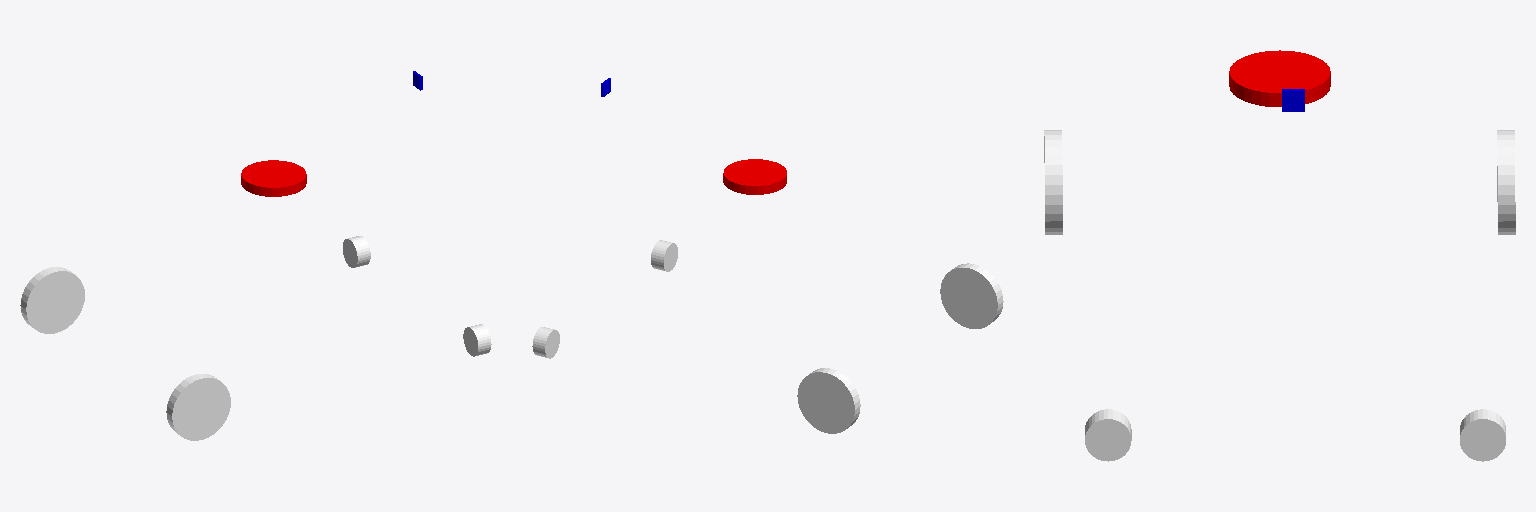
robot.urdf — ikea_table:
<?xml version="1.0" ?>
<robot name="ikea_table">


  <link name="base_link">
   <visual>
      <origin rpy="0.0 0.0 -1.57" xyz="0 0 0"/>
      <geometry>
        <mesh filename="file://[local-path]/ros2/ros2_workspace/install/self_driving_bot/share/self_driving_bot/meshes/ikea_table.dae" scale="1 1 1"/>
      </geometry>
    </visual>
    
    <collision>
      <origin rpy="0.0 0.0 -1.57" xyz="0 0 0"/>
      <geometry>
        <mesh filename="file://[local-path]/ros2/ros2_workspace/install/self_driving_bot/share/self_driving_bot/meshes/ikea_table.dae" scale="1 1 1"/>
     </geometry>
    </collision>

    <inertial>
      <origin xyz="0.35000000 -0.00000000 0.50000000"/>
      <mass value="4.00000000"/>
      <inertia ixx="0.48390286" ixy="0.00000005" ixz="-0.00091636" iyy="0.57406531" iyz="-0.00033842" izz="0.34467206"/>
    </inertial>

  </link>


  <link name="base_footprint"/>

  <joint name="base_joint" type="fixed">
    <parent link="base_footprint"/>
    <child link="base_link" />
    <origin xyz="0 0 0.50" rpy="0 0 0"/>
  </joint>

  <link name="wheel_back_left">
    <inertial>
      <origin xyz="0.00000000 -0.00000000 -0.00000000" rpy="-1.57 0.0 0.0"/>
      <mass value="0.25000000"/>
      <inertia ixx="0.00027539" ixy="0.00000000" ixz="0.00000000" iyy="0.00052463" iyz="-0.00000535" izz="0.00027551"/>
    </inertial>

    <visual>
      
      <geometry>
          <cylinder radius="0.0675" length="0.023"/>
      </geometry>
      <material name="white">
        <color rgba="1 1 1 1"/>
      </material>
    </visual>

    <collision>
      <geometry>
          <cylinder radius="0.0675" length="0.023"/>
      </geometry>
      <contact_coefficients mu="1" kp="1e+13" kd="1.0"/>
    </collision>
  </link>

  <joint name="wheel_back_left_joint" type="continuous">
    <origin xyz="-0.0 0.29 0.0" rpy="0.0 -1.57 -1.57"/>
    <parent link="base_link"/>
    <child link="wheel_back_left"/>
    <axis xyz="0.0 0.0 1.0"/>
  </joint>

  <link name="wheel_back_right">
    <inertial>
      <origin xyz="0.00000000 -0.00000000 -0.00000000" rpy="-1.57 0.0 0.0"/>
      <mass value="0.25000000"/>
      <inertia ixx="0.00027539" ixy="0.00000000" ixz="0.00000000" iyy="0.00052463" iyz="-0.00000535" izz="0.00027551"/>
    </inertial>

    <visual>
      
      <geometry>
          <cylinder radius="0.0675" length="0.023"/>
      </geometry>
      <material name="white">
        <color rgba="1 1 1 1"/>
      </material>
    </visual>

    <collision>
      <geometry>
          <cylinder radius="0.0675" length="0.023"/>
      </geometry>
      <contact_coefficients mu="1" kp="1e+13" kd="1.0"/>
    </collision>
  </link>

  <joint name="wheel_back_right_joint" type="continuous">
    <origin xyz="0.0 -0.29 0.0" rpy="0.0 -1.57 -1.57"/>
    <parent link="base_link"/>
    <child link="wheel_back_right"/>
    <axis xyz="0.0 0.0 1.0"/>
  </joint>

  <link name="roll_front_right">
   <visual>
      <origin rpy="0.0 0.0 0.0" xyz="0 0 0"/>
      <geometry>
        <mesh filename="file://[local-path]/ros2/ros2_workspace/install/self_driving_bot/share/self_driving_bot/meshes/roll.dae" scale="1 1 1"/>
      </geometry>
    </visual>
    
    <collision>
      <geometry>
        <mesh filename="file://[local-path]/ros2/ros2_workspace/install/self_driving_bot/share/self_driving_bot/meshes/roll.dae" scale="1 1 1"/>
     </geometry>
    </collision>

    <inertial>
      <origin xyz="-0.00000000 0.00688662 -0.02194443"/>
      <mass value="0.20000000"/>
      <inertia ixx="0.00006659" ixy="-0.00000000" ixz="0.00000000" iyy="0.00007293" iyz="0.00000796" izz="0.00008837"/>
    </inertial>

  </link>

  <joint name="roll_front_right_joint" type="continuous">
    <origin xyz="0.68 -0.24 0.0" rpy="0.0 0.0 0.0"/>
    <parent link="base_link"/>
    <child link="roll_front_right"/>
    <axis xyz="0.0 0.0 1.0"/>
  </joint>


  <link name="wheel_front_right">
    <visual>
      <geometry>
        <cylinder radius="0.03" length="0.03"/>
      </geometry>
      <material name="white"/>
    </visual>

    <inertial>
      <origin xyz="0.00000000 0.00000000 0.00000000"/>
      <mass value="0.10000000"/>
      <inertia ixx="0.00000823" ixy="0.00000000" ixz="0.00000000" iyy="0.00000866" iyz="0.00000000" izz="0.00000866"/>
    </inertial>

    <collision>
      <geometry>
           <cylinder radius="0.03" length="0.03"/>
      </geometry>
      <contact_coefficients mu="1" kp="1e+13" kd="1.0"/>
    </collision>
  </link>

  <joint name="wheel_front_right_joint" type="continuous">
    <origin xyz="0.0 0.02 -0.040" rpy="0.0 1.57 0.0"/>
    <parent link="roll_front_right"/>
    <child link="wheel_front_right"/>
    <axis xyz="0.0 0.0 1.0"/>
  </joint>

<link name="roll_front_left">
   <visual>
      <origin rpy="0.0 0.0 0.0" xyz="0 0 0"/>
      <geometry>
        <mesh filename="file://[local-path]/ros2/ros2_workspace/install/self_driving_bot/share/self_driving_bot/meshes/roll.dae" scale="1 1 1"/>
      </geometry>
    </visual>
    
    <collision>
      <geometry>
        <mesh filename="file://[local-path]/ros2/ros2_workspace/install/self_driving_bot/share/self_driving_bot/meshes/roll.dae" scale="1 1 1"/>
     </geometry>
    </collision>

    <inertial>
      <origin xyz="-0.00000000 0.00688662 -0.02194443"/>
      <mass value="0.20000000"/>
      <inertia ixx="0.00006659" ixy="-0.00000000" ixz="0.00000000" iyy="0.00007293" iyz="0.00000796" izz="0.00008837"/>
    </inertial>

  </link>

  <joint name="roll_front_left_joint" type="continuous">
    <origin xyz="0.68 0.24 0.0" rpy="0.0 0.0 0.0"/>
    <parent link="base_link"/>
    <child link="roll_front_left"/>
    <axis xyz="0.0 0.0 1.0"/>
  </joint>


  <link name="wheel_front_left">
    <visual>
      <geometry>
        <cylinder radius="0.03" length="0.03"/>
      </geometry>
      <material name="white"/>
    </visual>

    <inertial>
      <origin xyz="0.00000000 0.00000000 0.00000000"/>
      <mass value="0.10000000"/>
      <inertia ixx="0.00000823" ixy="0.00000000" ixz="0.00000000" iyy="0.00000866" iyz="0.00000000" izz="0.00000866"/>
    </inertial>

    <collision>
      <geometry>
           <cylinder radius="0.03" length="0.03"/>
      </geometry>
      <contact_coefficients mu="1" kp="1e+13" kd="1.0"/>
    </collision>

  </link>

  <joint name="wheel_front_left_joint" type="continuous">
    <origin xyz="-0.0 0.02 -0.040" rpy="0.0 1.57 0.0"/>
    <parent link="roll_front_left"/>
    <child link="wheel_front_left"/>
    <axis xyz="0.0 0.0 1.0"/>
  </joint>

  <link name="camera">
    <inertial>
            <mass value="0.01" />
            <inertia ixx="0.01" ixy="0.0" ixz="0" 
            iyy="0.01" iyz="0" izz="0.01" />
    </inertial>

    <visual>
      
      <geometry>
        <box size="0.005 0.03 0.03"/>
      </geometry>
      <material name="blue">
        <color rgba="0 0 1 1"/>
      </material>
    </visual>

    <collision>
      <origin xyz="0.0 0.0 0.0" rpy="0.0 0.0 1.57"/>
      <geometry>
          <box size="0.03 0.005 0.03"/>
      </geometry>
    </collision>
  </link>

  <joint name="camera_joint" type="fixed">
    <origin xyz="0.68 0.0175 0.433" rpy="0 0.0 0.0"/>
    <parent link="base_link"/>
    <child link="camera"/>
    <axis xyz="0.0 0.0 1.0"/>

  </joint>

  <link name="lidar">
    <inertial>
            <mass value="0.1" />
            <inertia ixx="0.01" ixy="0.0" ixz="0" 
            iyy="0.01" iyz="0" izz="0.01" />
    </inertial>

    <visual>
      <geometry>
        <cylinder radius="0.065" length="0.02"/>
      </geometry>
      <material name="red">        
          <color rgba="1 0 0 1"/>
      </material>
    </visual>

    <collision>
      <geometry>
        <cylinder radius="0.065" length="0.02"/>
      </geometry>
    </collision>
  </link>

  <joint name="lidar_joint" type="fixed">
    <origin xyz="0.34 0.0 0.305" rpy="0.0 0.0 0.0"/>
    <parent link="base_link"/>
    <child link="lidar"/>
    <axis xyz="0.0 0.0 1.0"/>
  </joint>

   <!-- DIFFENERNTIAL DRIVE-->
  <gazebo>
    <plugin name='diff_drive' filename='libgazebo_ros_diff_drive.so'>
            <left_joint>wheel_back_left_joint</left_joint>
            <right_joint>wheel_back_right_joint</right_joint>
            <wheel_separation>0.575</wheel_separation>
            <wheel_diameter>0.13</wheel_diameter>
            <max_wheel_torque>20</max_wheel_torque>
            <max_wheel_acceleration>1.0</max_wheel_acceleration>]
            <publish_odom>true</publish_odom>
            <publish_odom_tf>true</publish_odom_tf>
            <publish_wheel_tf>true</publish_wheel_tf>

            <odometry_frame>odom</odometry_frame>
            <robot_base_frame>base_footprint</robot_base_frame>

          </plugin>
    </gazebo>

    <!-- CAMERA-->
    <gazebo reference="camera">
      <sensor type="camera" name="camera1">
        <update_rate>30.0</update_rate>
        <camera name="head">
          <horizontal_fov>1.3962634</horizontal_fov>
          <image>
            <width>800</width>
            <height>800</height>
            <format>R8G8B8</format>
          </image>
          <clip>
            <near>0.02</near>
            <far>300</far>
          </clip>
          <noise>
            <type>gaussian</type>
            <mean>0.0</mean>
            <stddev>0.007</stddev>
          </noise>
        </camera>
        <plugin name="camera_controller" filename="libgazebo_ros_camera.so">
          <alwaysOn>true</alwaysOn>
          <!-- updateRate>0.0</updateRate-->
          <cameraName>/camera</cameraName>
          <imageTopicName>image_raw</imageTopicName>
          <cameraInfoTopicName>camera_info</cameraInfoTopicName>
          <frameName>camera</frameName>
          <hackBaseline>0.07</hackBaseline>
        </plugin>
      </sensor>
      <material>Gazebo/Blue</material>
  </gazebo>


  <!-- LIDAR -->
   <gazebo reference="lidar">
    <sensor name="gazebo_lidar" type="ray">
      <visualize>true</visualize>
      <update_rate>12.0</update_rate>
      <plugin filename="libgazebo_ros_ray_sensor.so" name="gazebo_lidar">
        <ros>
          <remapping>~/out:=scan</remapping>
        </ros>
      
        <output_type>sensor_msgs/LaserScan</output_type>
        <frame_name>lidar</frame_name>
      </plugin>
      <ray>
        <scan>
          <horizontal>
            <samples>360</samples>
            <resolution>1</resolution>
            <min_angle>0.00</min_angle>
            <!-- max_angle>3.14</max_angle -->
            <max_angle>6.28</max_angle>
          </horizontal>
        </scan>
        <range>
          <min>0.50</min>
          <max>5</max>
          <resolution>0.015</resolution>
        </range>
        <noise>
          <type>gaussian</type>
          <mean>0.0</mean>
          <stddev>0.01</stddev>
        </noise>
      </ray>
    </sensor>
    <material>Gazebo/DarkGrey</material>
  </gazebo> 
  

</robot>

--- Facts derived from the render (not from the file) ---
Views: 3 orthographic renders of the robot side by side, from view 1: azimuth 30°, elevation 25°; view 2: azimuth 150°, elevation 25°; view 3: azimuth 270°, elevation 25°.
Robot: ikea_table — 10 links, 9 joints (6 continuous, 3 fixed); root link base_footprint; default pose: every joint at zero.
Visible links, largest first — view 1: wheel_back_left, wheel_back_right, lidar, wheel_front_left, wheel_front_right; view 2: wheel_back_right, wheel_back_left, lidar, wheel_front_left, wheel_front_right; view 3: lidar, wheel_front_right, wheel_front_left, wheel_back_left, wheel_back_right, camera.
Boxes of the visible links, bbox=[...] form: wheel_back_left: bbox=[20, 267, 84, 333]; wheel_back_right: bbox=[166, 374, 230, 440]; lidar: bbox=[241, 160, 306, 196]; wheel_front_left: bbox=[343, 236, 370, 267]; wheel_front_right: bbox=[463, 324, 491, 356]; wheel_back_right: bbox=[940, 263, 1003, 328]; wheel_back_left: bbox=[797, 368, 860, 433]; lidar: bbox=[723, 159, 786, 194]; wheel_front_left: bbox=[532, 327, 559, 358]; wheel_front_right: bbox=[651, 240, 677, 271]; lidar: bbox=[1229, 50, 1330, 106]; wheel_front_right: bbox=[1085, 409, 1131, 461]; wheel_front_left: bbox=[1460, 409, 1505, 461]; wheel_back_left: bbox=[1497, 130, 1515, 234]; wheel_back_right: bbox=[1044, 130, 1062, 234]; camera: bbox=[1282, 89, 1304, 111].
Size in the robot's own frame: 0.7625 by 0.6032 by 0.518 metres.
Geometry: only primitive shapes (box / cylinder / sphere) drawn; not drawn: 3 mesh visuals (reference in a form the renderer does not follow).
